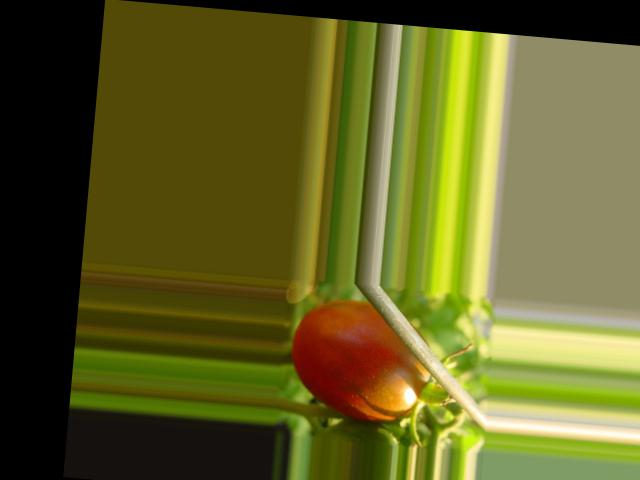tomato: (287, 297, 435, 424)
